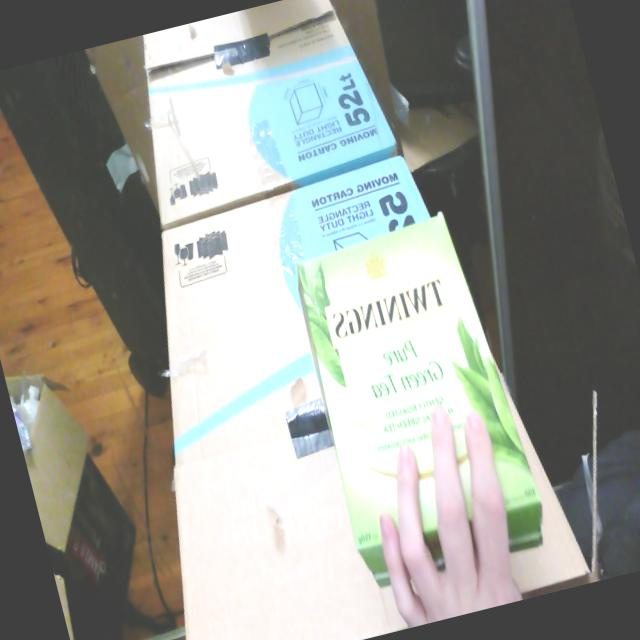twinings_greentea_box: (296, 211, 542, 586)
